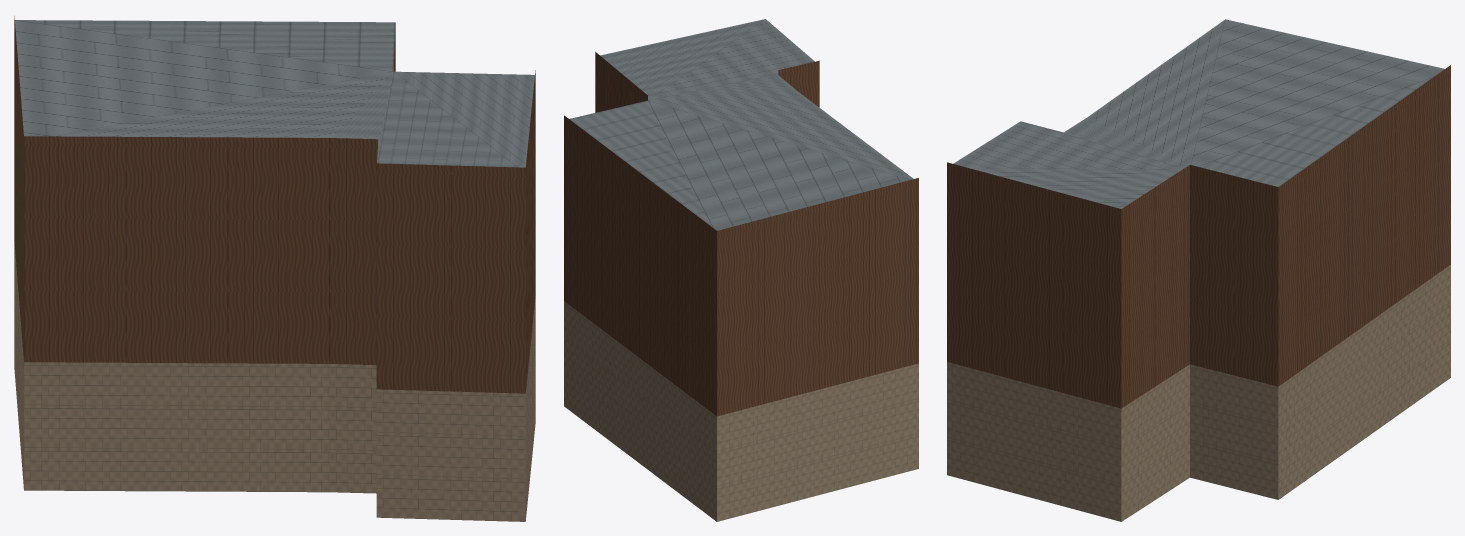
File: bld_c37_48_194.gltf
3 renders of one model, left to right at view 1: azimuth 30°, elevation 25°; view 2: azimuth 150°, elevation 25°; view 3: azimuth 270°, elevation 25°, orthographic. The views are drawn at different scales.
Parts seen in each view (by area): view 1: bld_c37_48_194; view 2: bld_c37_48_194; view 3: bld_c37_48_194.
Part boxes in pixels (left/top/right/bottom): bld_c37_48_194: left=14, top=16, right=535, bottom=521; bld_c37_48_194: left=564, top=19, right=918, bottom=521; bld_c37_48_194: left=947, top=19, right=1450, bottom=521.
Bounding box in the file's own units: 18.83 × 14.08 × 20.55.
Materials: 4 (4 with a texture image).
